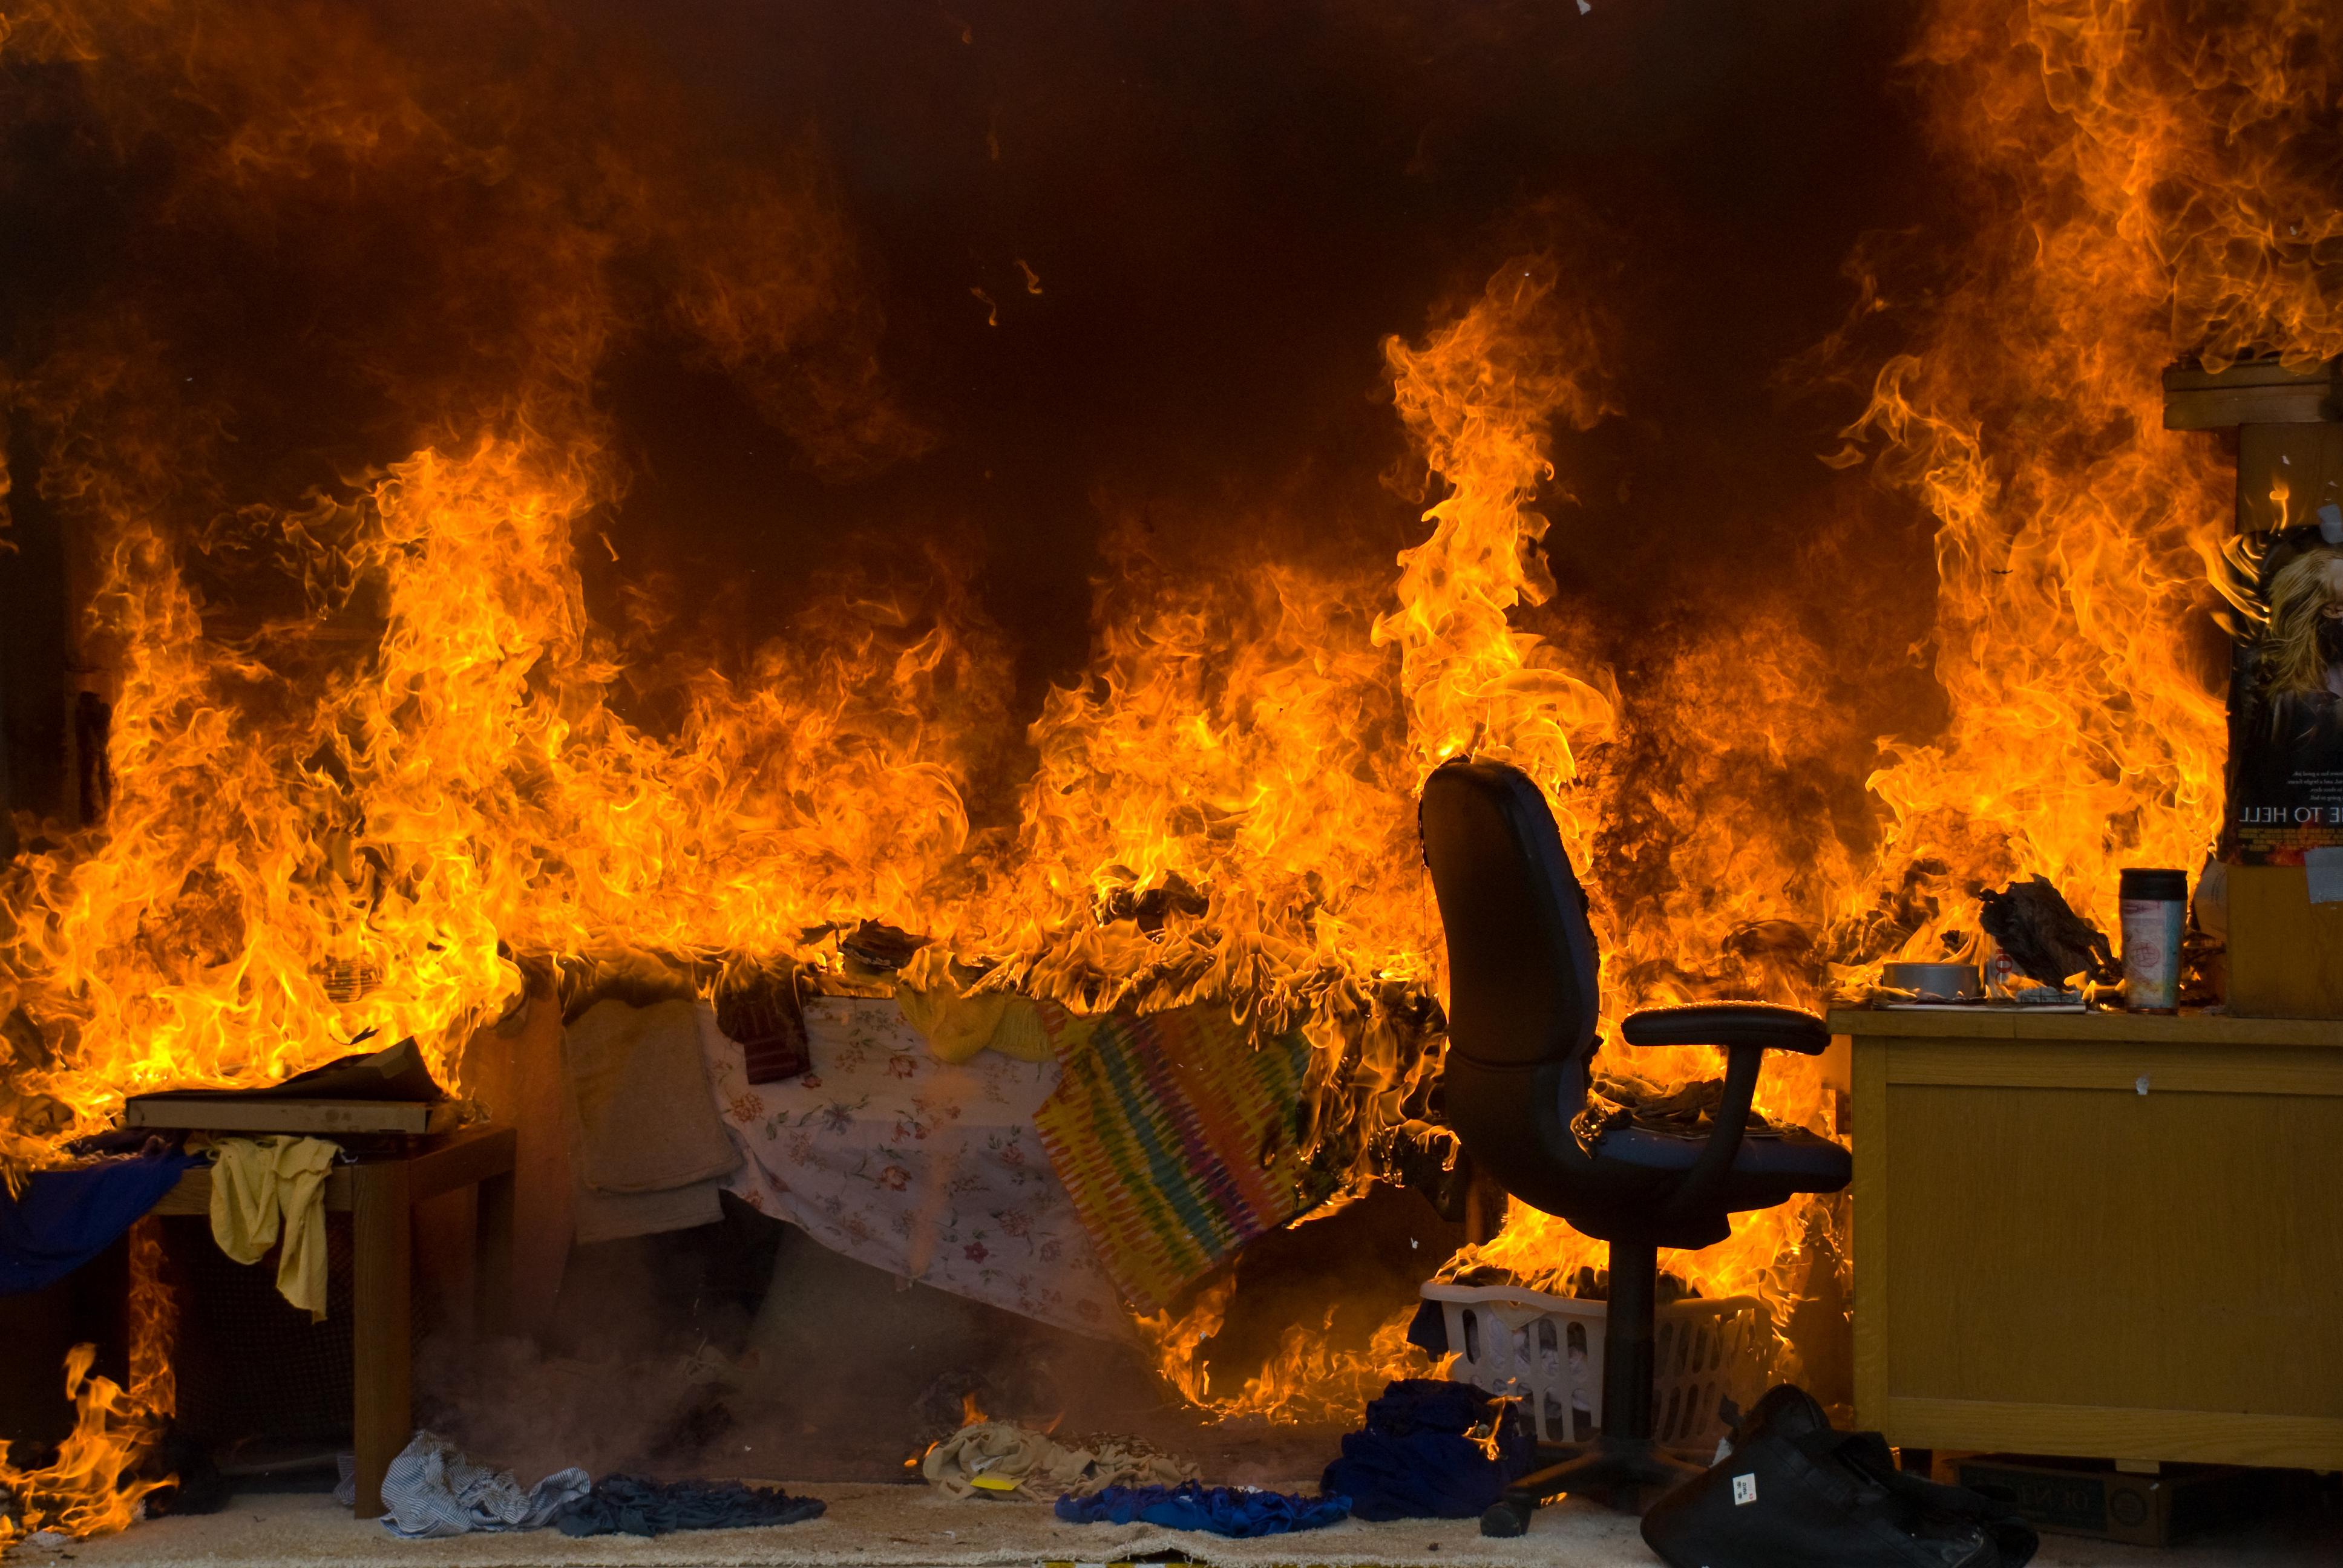fire: (33, 24, 2319, 1246), (1130, 1281, 1542, 1426), (10, 1319, 175, 1531)
